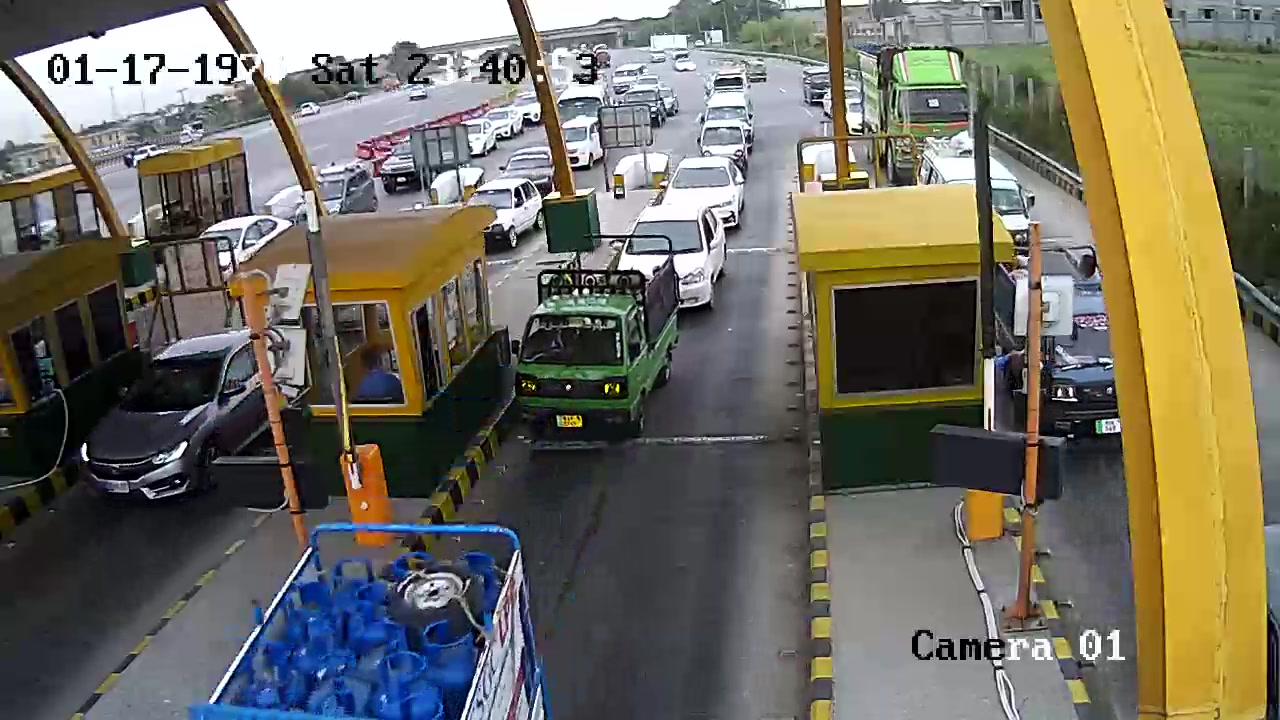F1: (503, 220, 684, 463)
